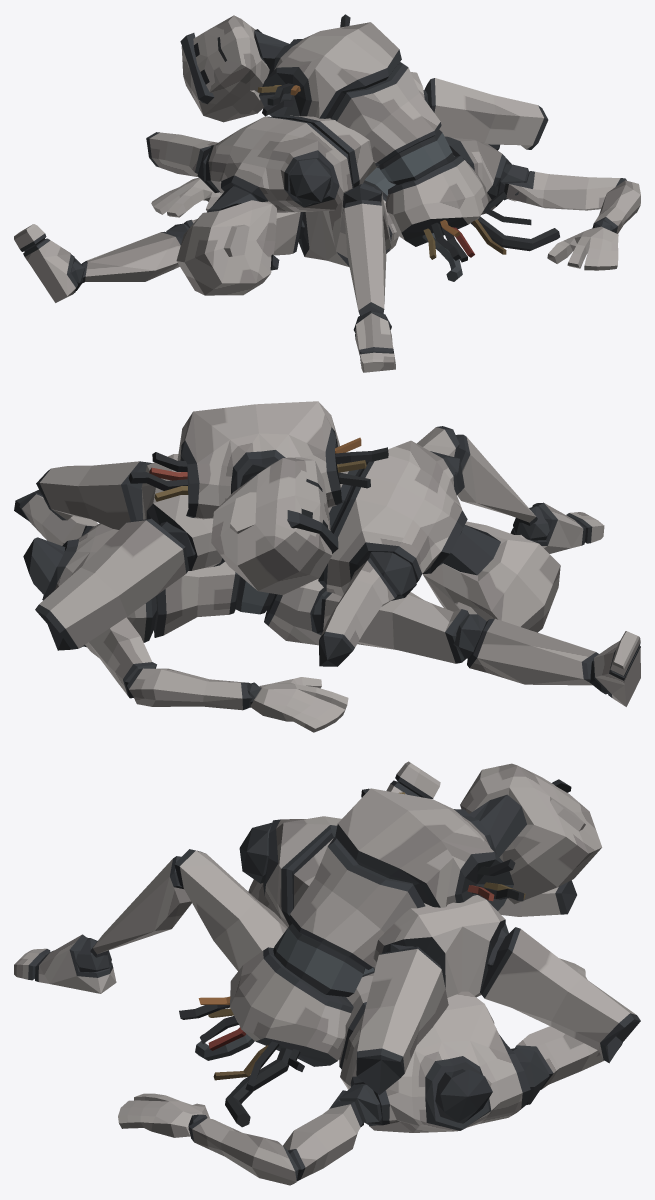
The model's file is SM_Prop_Robot_Posed_Pile_01.fbx.
3 renders of one model, top to bottom at view 1: azimuth 30°, elevation 25°; view 2: azimuth 150°, elevation 25°; view 3: azimuth 270°, elevation 25°, orthographic. The views are drawn at different scales.
Parts seen in each view (by area): view 1: SM_Prop_Robot_Posed_Pile_01; view 2: SM_Prop_Robot_Posed_Pile_01; view 3: SM_Prop_Robot_Posed_Pile_01.
Boxes of the visible parts, <box> form: SM_Prop_Robot_Posed_Pile_01: <box>14,14,640,372</box>; SM_Prop_Robot_Posed_Pile_01: <box>14,401,640,732</box>; SM_Prop_Robot_Posed_Pile_01: <box>14,761,640,1185</box>.
Size of the model in its own units: 184 by 64.93 by 144.
